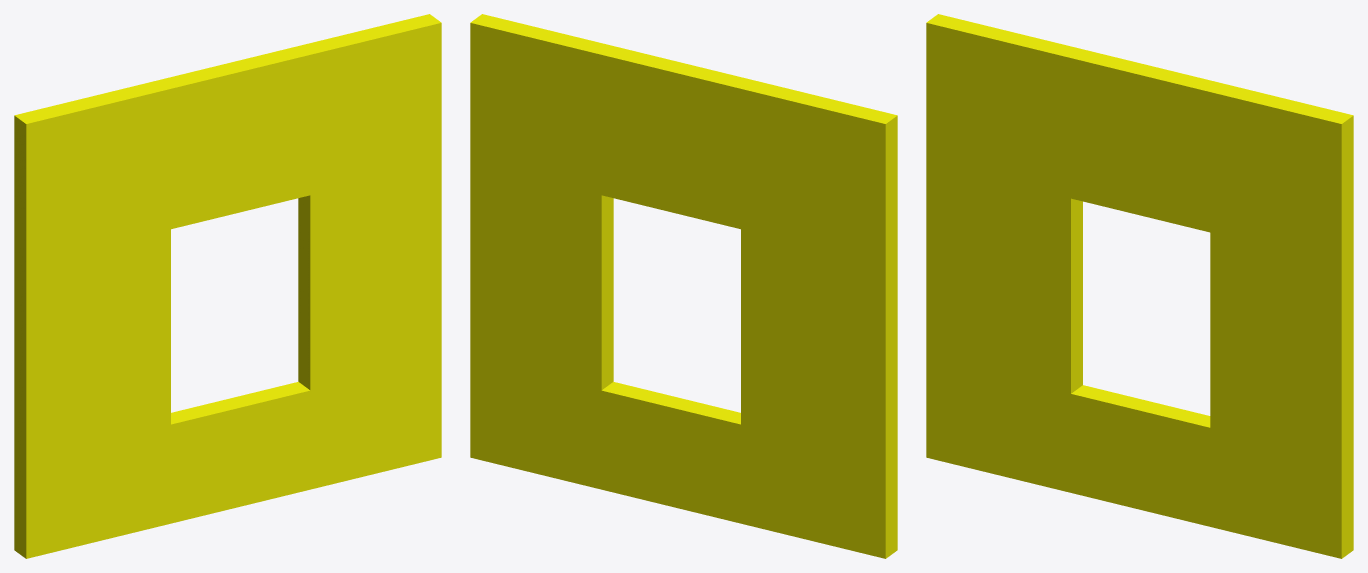
Rendered from Window.glb.
3 renders of one model, left to right at view 1: azimuth 30°, elevation 25°; view 2: azimuth 150°, elevation 25°; view 3: azimuth 330°, elevation 25°, orthographic.
Visible parts, largest first — view 1: window; view 2: window; view 3: window.
Boxes of the visible parts, x1=… form: window: x1=14, y1=14, x2=441, y2=558; window: x1=470, y1=14, x2=897, y2=558; window: x1=926, y1=14, x2=1353, y2=558.
Bounding box in the file's own units: 4 × 4 × 0.2.
1 material, 1 textured.
